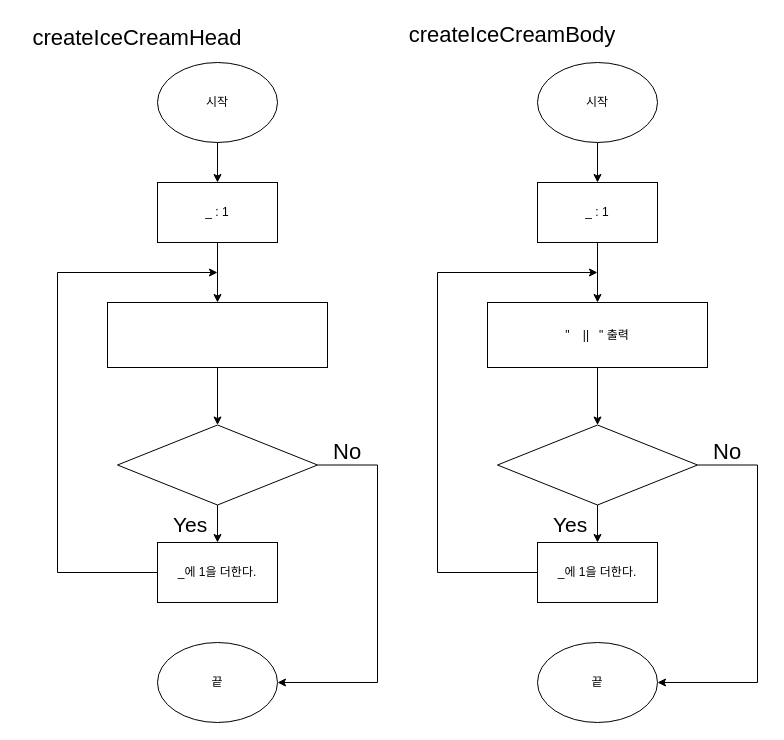
Image size: 784x740. Some labels were removed from this diagram. The centre of each missing label's shape, as x and y in pixels:
"***********" 출력: point 217,335
_이 4보다 작은가?: point 597,464
_이 8보다 작은가?: point 217,464
